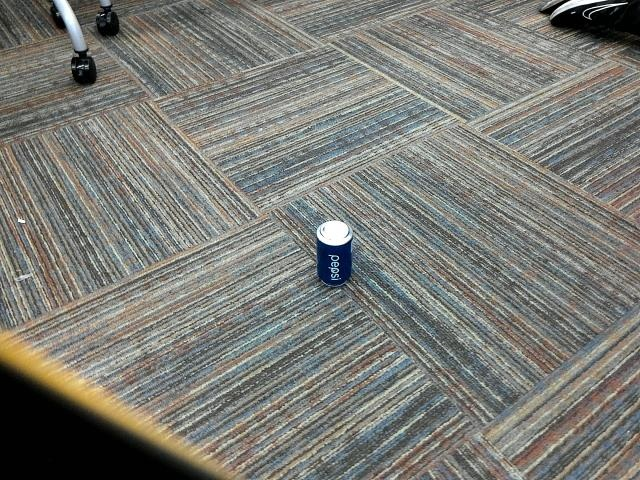can: (307, 216, 361, 291)
